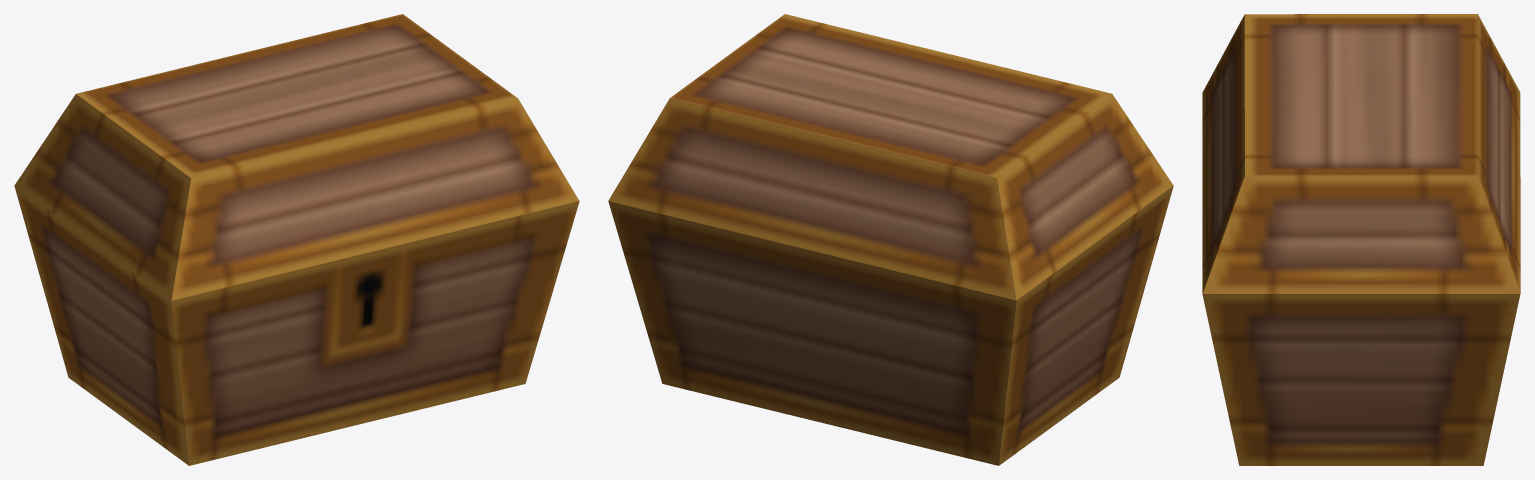
Rendered from animal_pr_treasure01_01.fbx.
The picture shows the model from 3 angles, left to right: view 1: azimuth 30°, elevation 25°; view 2: azimuth 150°, elevation 25°; view 3: azimuth 270°, elevation 25°; orthographic projection.
Visible parts, largest first — view 1: animal_pr_treasuretop01_mesh, animal_pr_treasurebottom01_mesh; view 2: animal_pr_treasuretop01_mesh, animal_pr_treasurebottom01_mesh; view 3: animal_pr_treasuretop01_mesh, animal_pr_treasurebottom01_mesh.
Boxes of the visible parts, x1,y1,x2,y2 form: animal_pr_treasuretop01_mesh: (14,14,579,300); animal_pr_treasurebottom01_mesh: (14,186,579,465); animal_pr_treasuretop01_mesh: (608,14,1173,300); animal_pr_treasurebottom01_mesh: (608,186,1173,465); animal_pr_treasuretop01_mesh: (1202,14,1520,293); animal_pr_treasurebottom01_mesh: (1202,92,1520,465).
Bounding box in the file's own units: 33.47 × 22.3 × 22.32.
